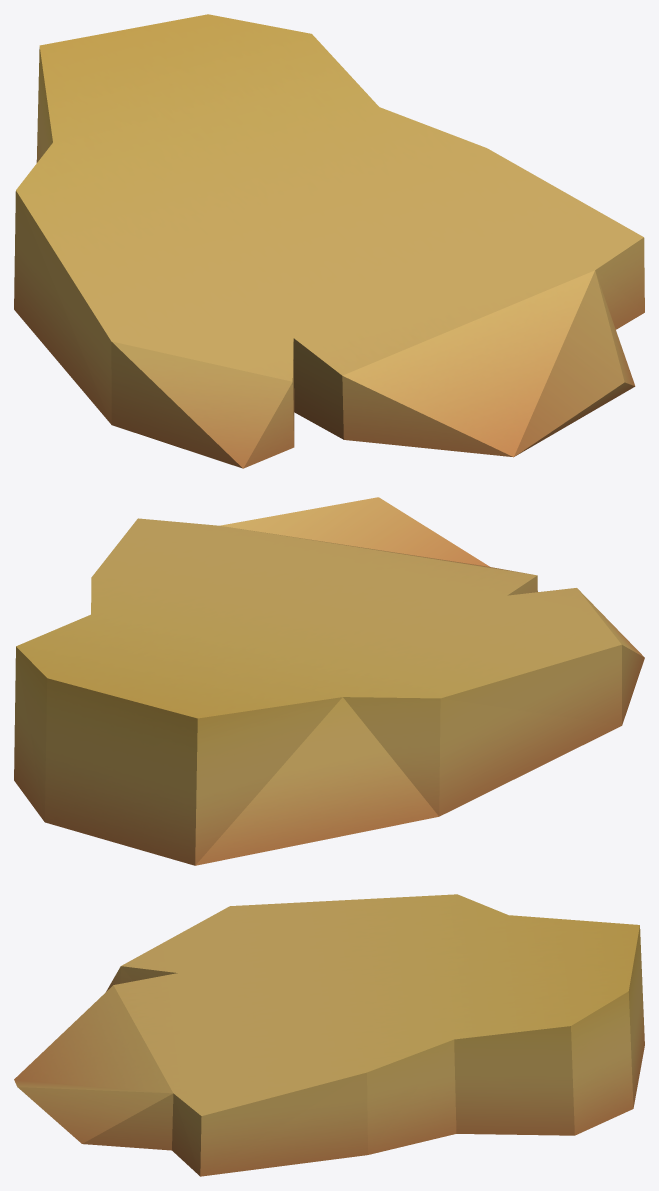
Rendered from Canyon_Stone_001.FBX.
3 renders of one model, top to bottom at view 1: azimuth 30°, elevation 25°; view 2: azimuth 150°, elevation 25°; view 3: azimuth 270°, elevation 25°, orthographic. The views are drawn at different scales.
Visible parts, largest first — view 1: Canyon_Stone_001; view 2: Canyon_Stone_001; view 3: Canyon_Stone_001.
Boxes of the visible parts, box(x1,y1,x2,y2) form: Canyon_Stone_001: box(14, 14, 644, 468); Canyon_Stone_001: box(14, 497, 644, 865); Canyon_Stone_001: box(14, 894, 644, 1176).
Bounding box in the file's own units: 230 × 63.71 × 303.
Materials: 1 (1 with a texture image).
